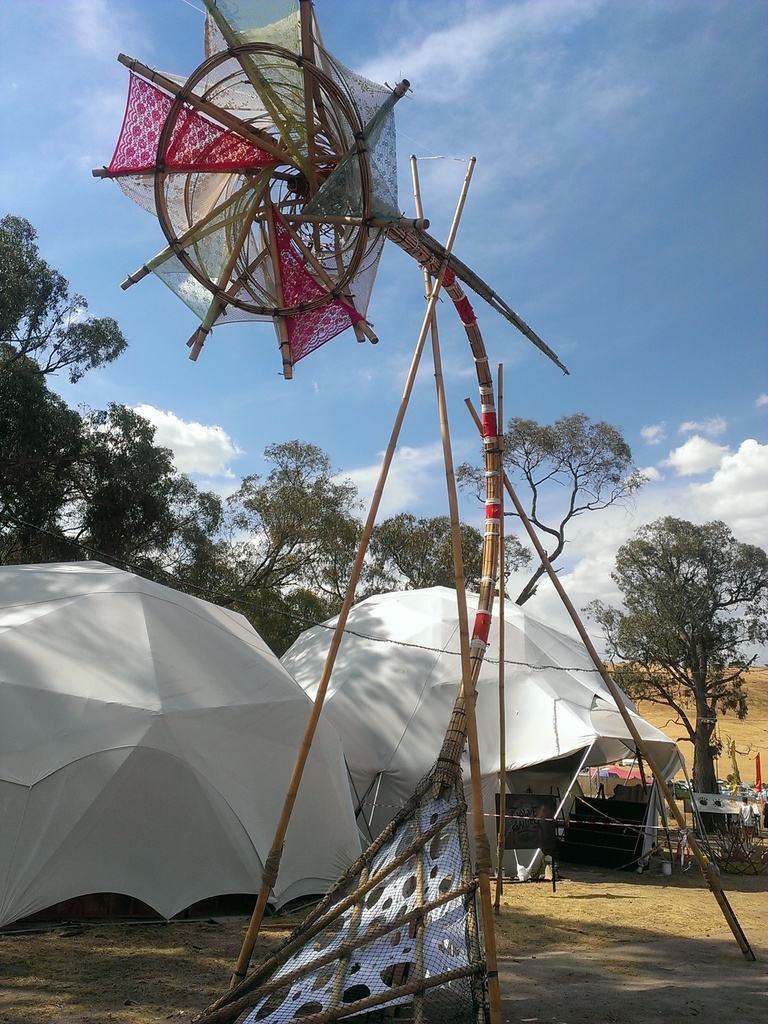Tree: (0, 210, 654, 656), (579, 515, 768, 839)
